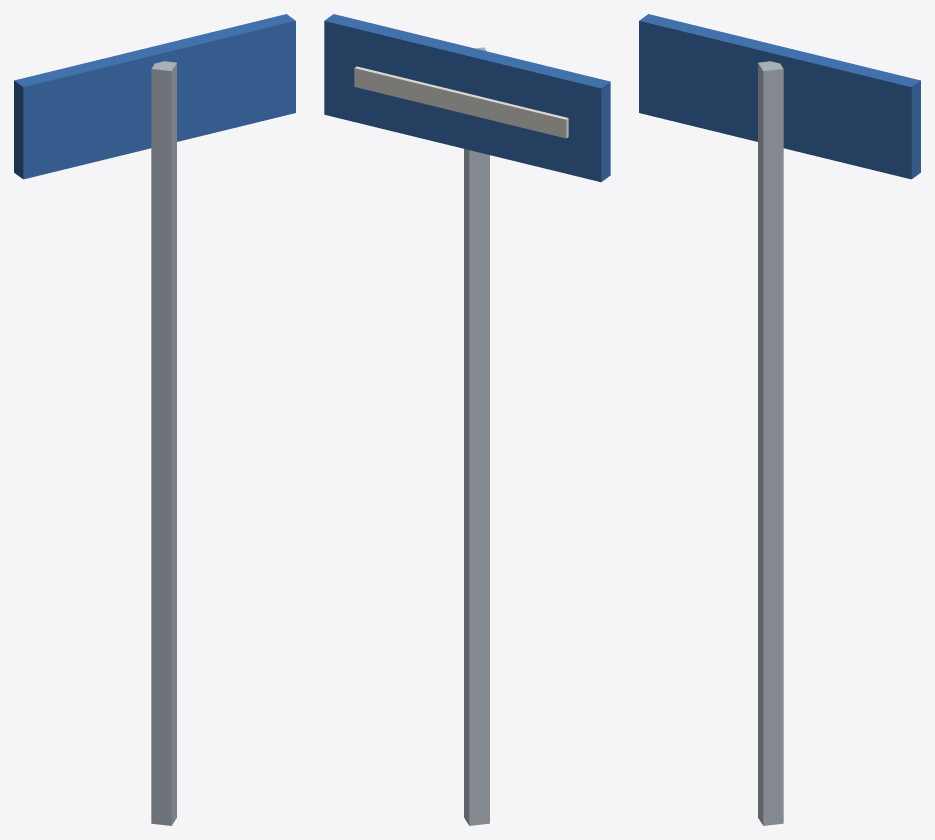
Rendered from placa_rua.glb.
3 views of the same model, side by side, from view 1: azimuth 30°, elevation 25°; view 2: azimuth 150°, elevation 25°; view 3: azimuth 330°, elevation 25° (orthographic).
Parts seen in each view (by area): view 1: corpo; view 2: corpo; view 3: corpo.
Part boxes in pixels (x1=…): corpo: x1=14, y1=14, x2=295, y2=825; corpo: x1=324, y1=14, x2=610, y2=825; corpo: x1=639, y1=14, x2=920, y2=825.
Size of the model in its own units: 0.34 by 0.91 by 0.051.
